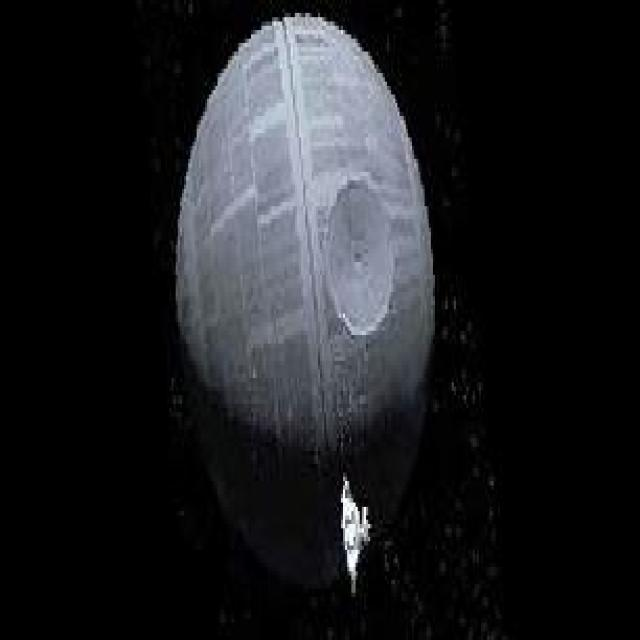Death Star: (175, 21, 446, 594)
